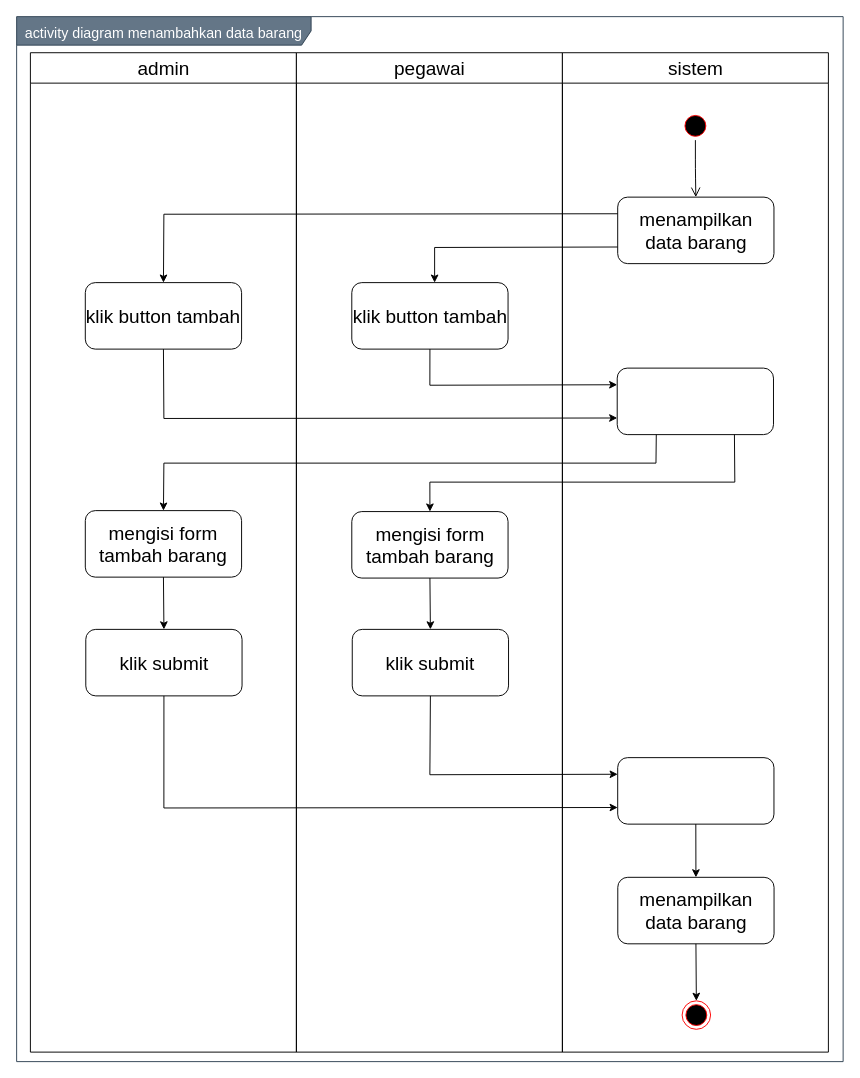
The diagram is 860 pixels wide and 1078 high, and some of its shapes have lost their labels. Each missing label, with the centre of its shape:
menampilkan form tambah barang: point (694, 401)
menyimpan ke database: point (695, 790)
